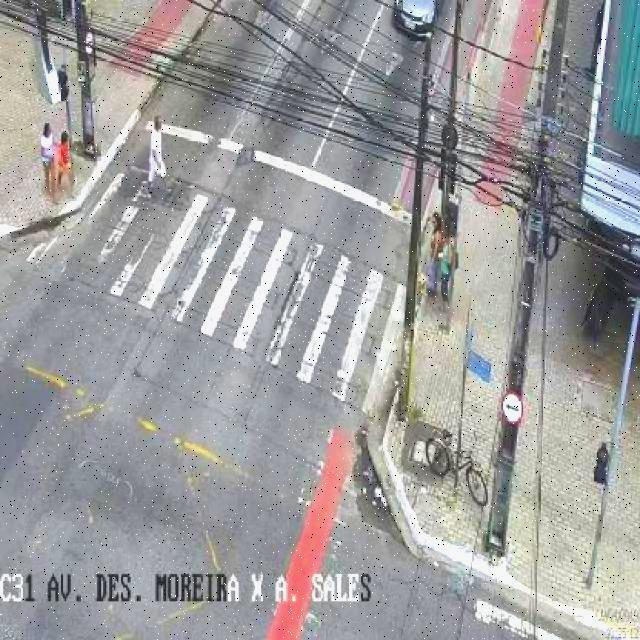Car: (394, 0, 442, 44)
Cycle: (421, 425, 496, 512)
